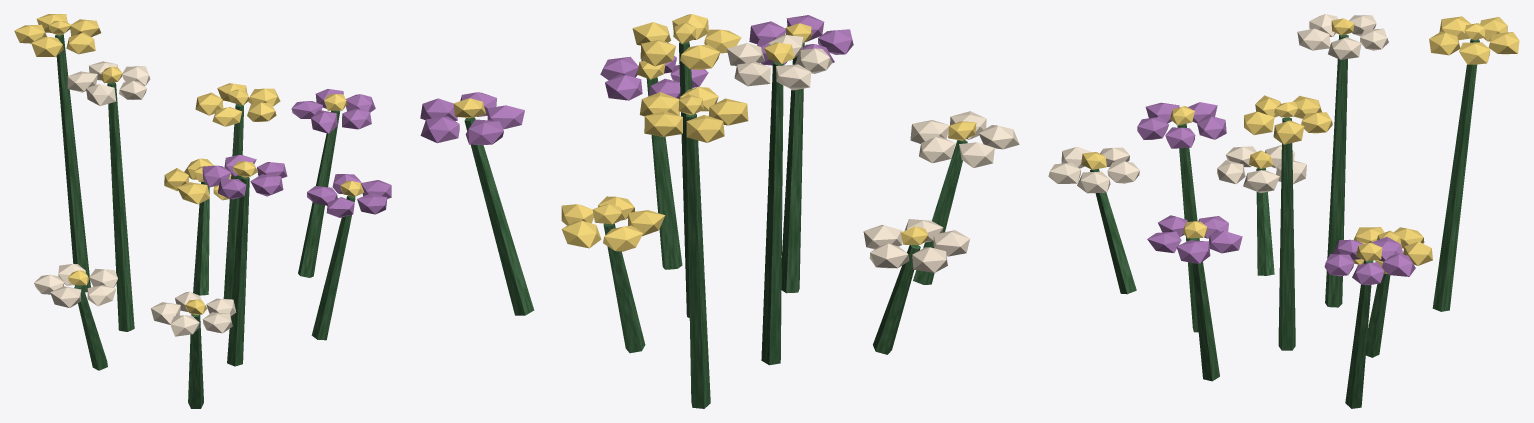
Rendered from flower_patch.gltf.
The picture shows the model from 3 angles, left to right: view 1: azimuth 30°, elevation 25°; view 2: azimuth 150°, elevation 25°; view 3: azimuth 270°, elevation 25°; orthographic projection. The views are drawn at different scales.
Parts seen in each view (by area): view 1: flower_patch; view 2: flower_patch; view 3: flower_patch.
Part boxes in pixels (x1,y1,x2,y2): flower_patch: (14, 14, 391, 408); flower_patch: (420, 14, 1019, 408); flower_patch: (1048, 14, 1519, 408).
Size of the model in its own units: 0.9325 by 0.618 by 0.9328.
4 materials, 1 textured.
